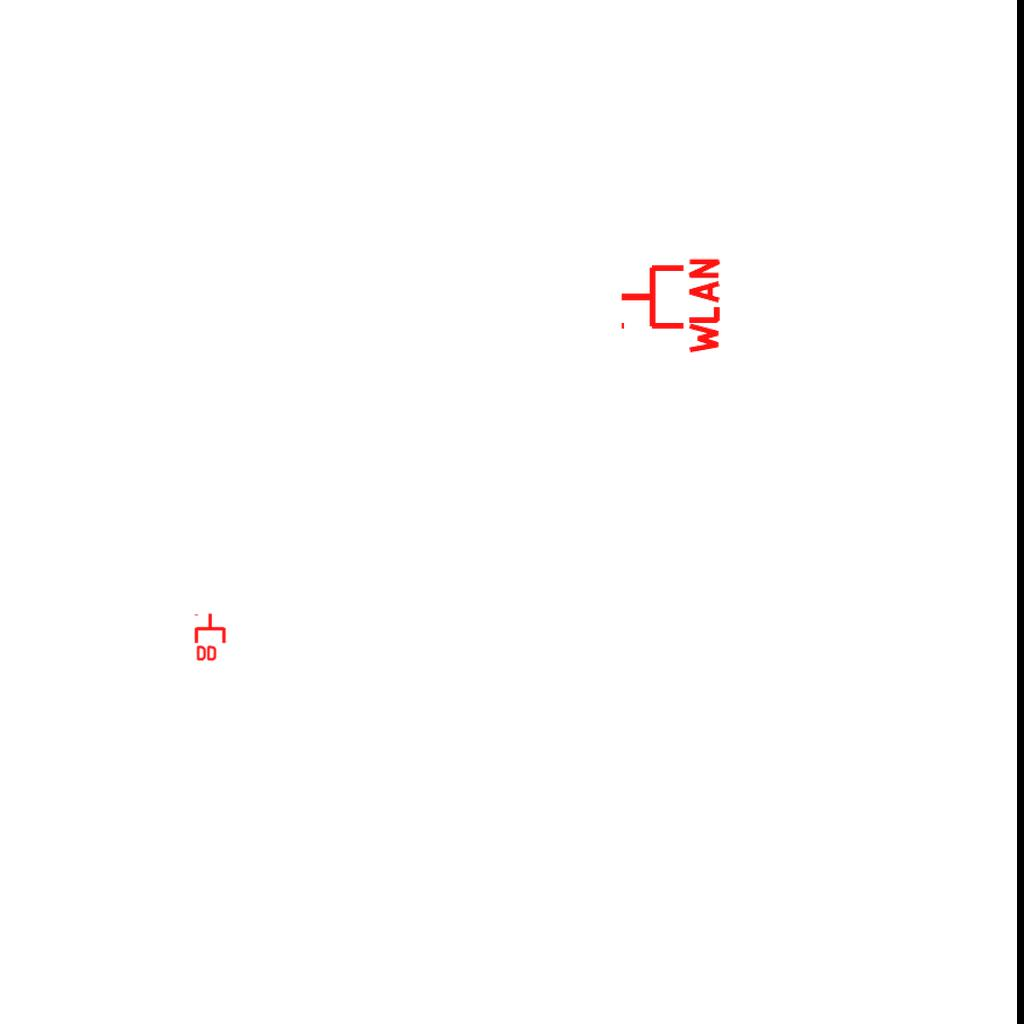Datenanschluss_zweifach: (194, 612, 228, 663)
WLAN: (617, 254, 722, 358)
